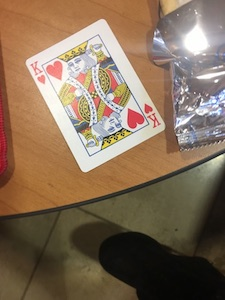KingOfHearts: (21, 16, 168, 178)
